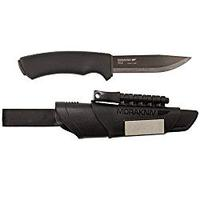knife: (2, 83, 200, 139), (9, 42, 196, 83)
